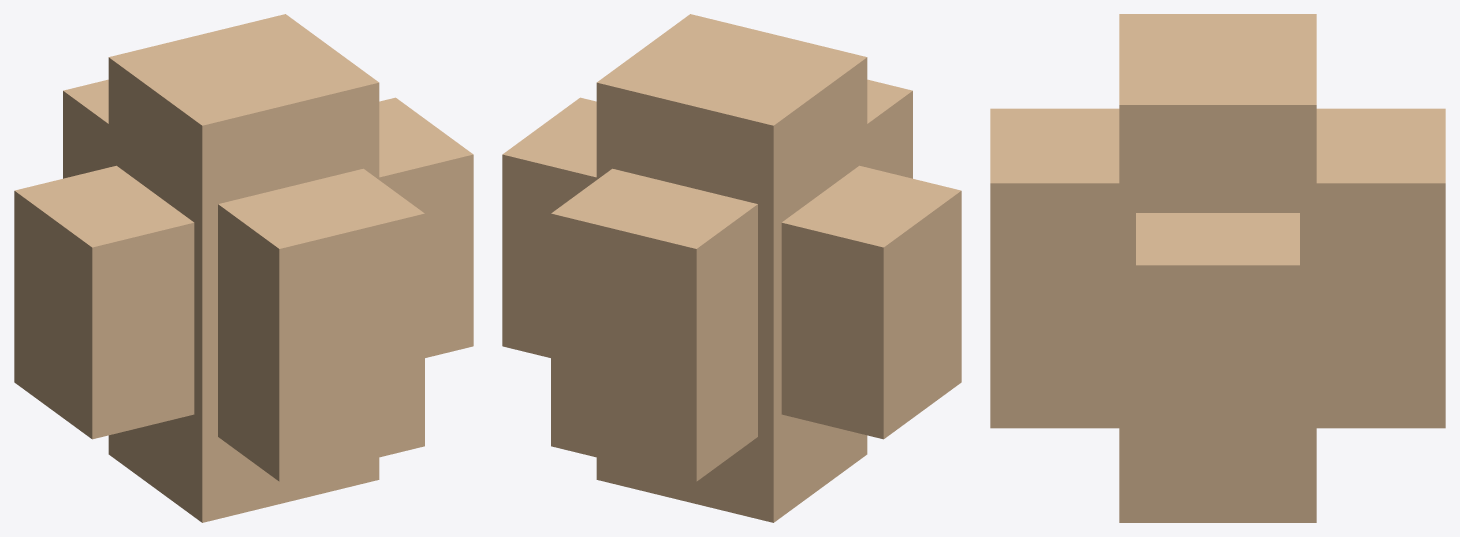
Rendered from Popcorn.fbx.
The picture shows the model from 3 angles, left to right: view 1: azimuth 30°, elevation 25°; view 2: azimuth 150°, elevation 25°; view 3: azimuth 270°, elevation 25°; orthographic projection. The views are drawn at different scales.
Parts seen in each view (by area): view 1: pCube4; view 2: pCube4; view 3: pCube4.
Part boxes in pixels (bbox=[...]): pCube4: bbox=[14, 14, 473, 522]; pCube4: bbox=[502, 14, 961, 522]; pCube4: bbox=[990, 14, 1445, 522].
Bounding box in the file's own units: 1.06 × 1.06 × 1.04.
